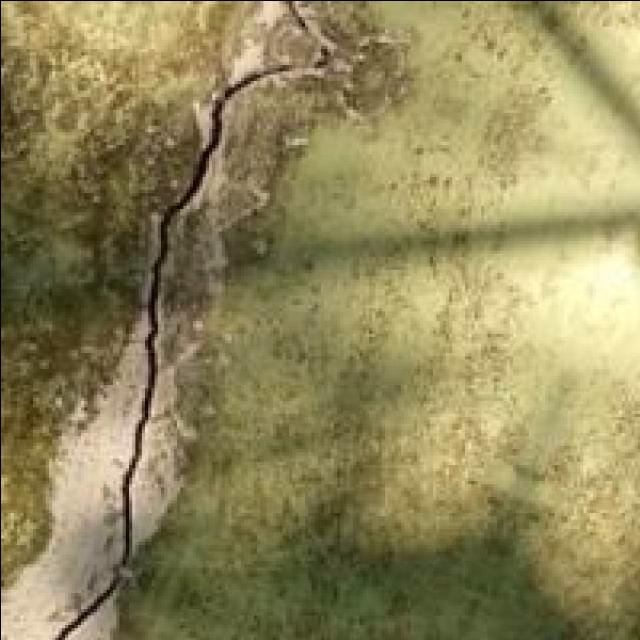SurfaceCrack: (42, 0, 374, 640)
